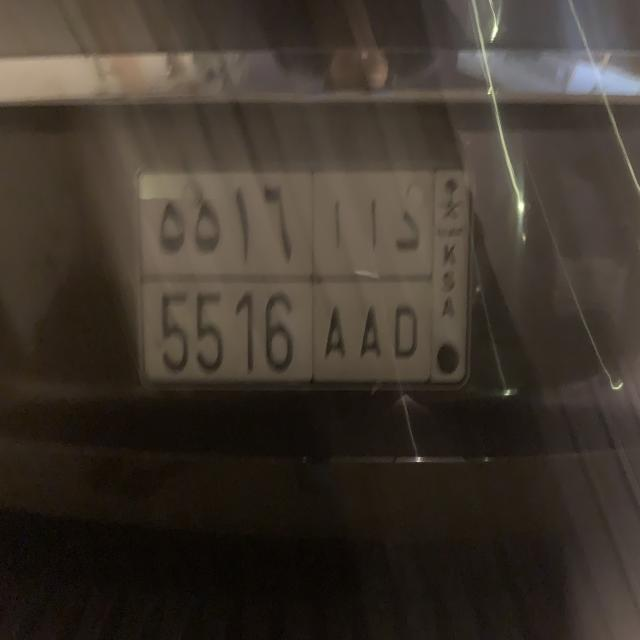license_plate: (130, 162, 476, 390)
